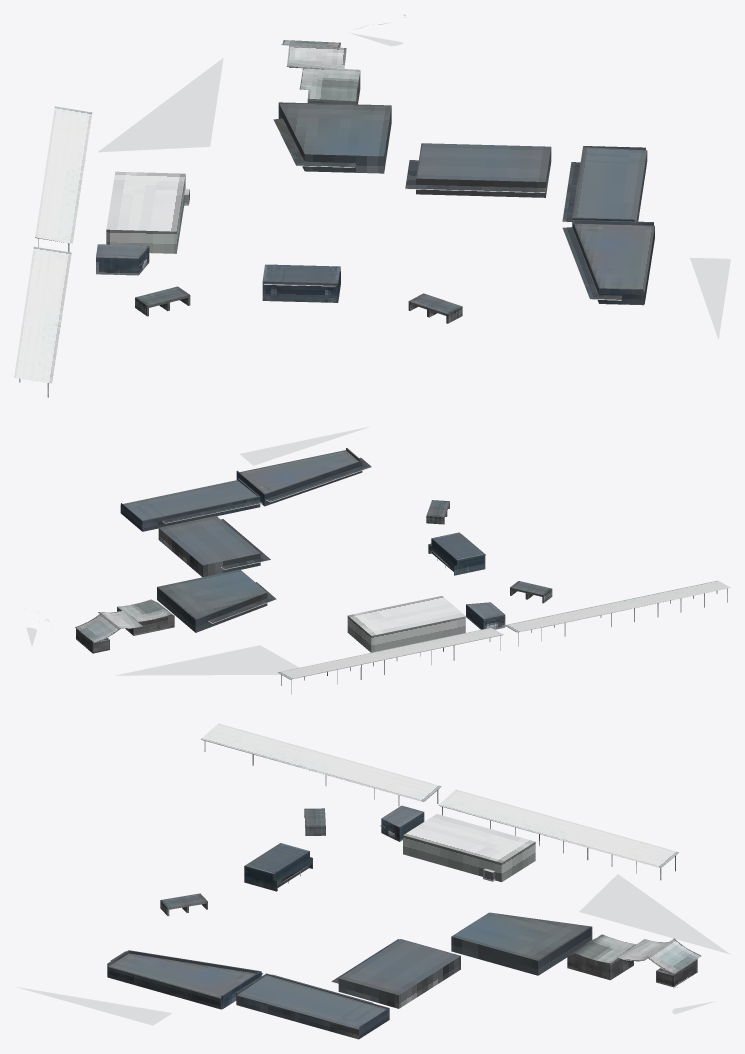
3 views of the same model, one above another, from view 1: azimuth 30°, elevation 25°; view 2: azimuth 150°, elevation 25°; view 3: azimuth 270°, elevation 25° (orthographic). The views are drawn at different scales.
Visible parts, largest first — view 1: Buildings_建物パビリオン; view 2: Buildings_建物パビリオン; view 3: Buildings_建物パビリオン.
Part boxes in pixels (x1=…): Buildings_建物パビリオン: x1=14, y1=14, x2=730, y2=397; Buildings_建物パビリオン: x1=14, y1=426, x2=730, y2=694; Buildings_建物パビリオン: x1=16, y1=723, x2=730, y2=1039.
Size of the model in its own units: 245 by 10.27 by 246.
13 materials, 12 textured.
